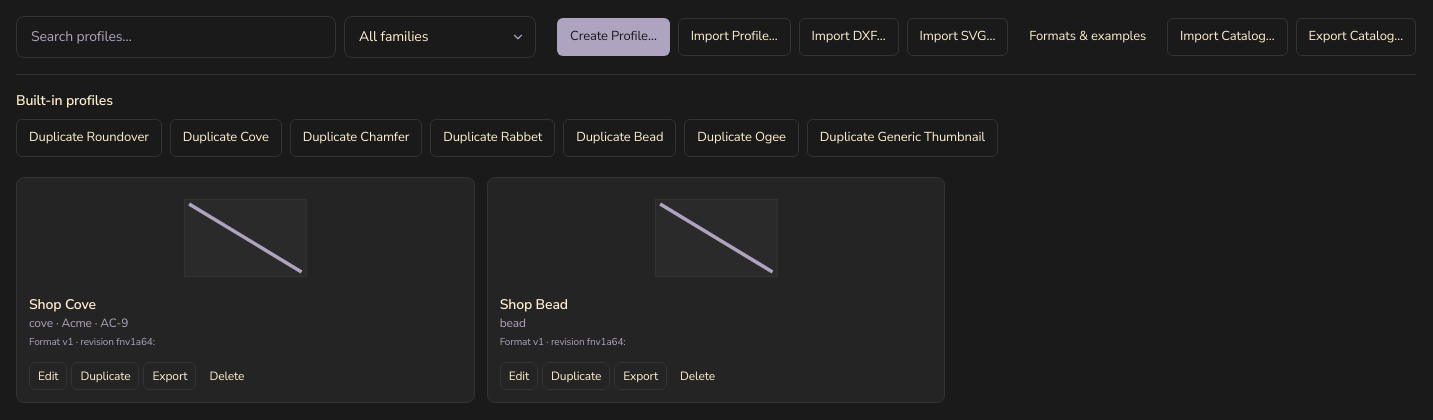
Scenario: RouterProfilesTab › filters by search text and by family
In the field named "Search router profiles": (176, 37) x1=16 y1=16 x2=336 y2=58, type "bead"
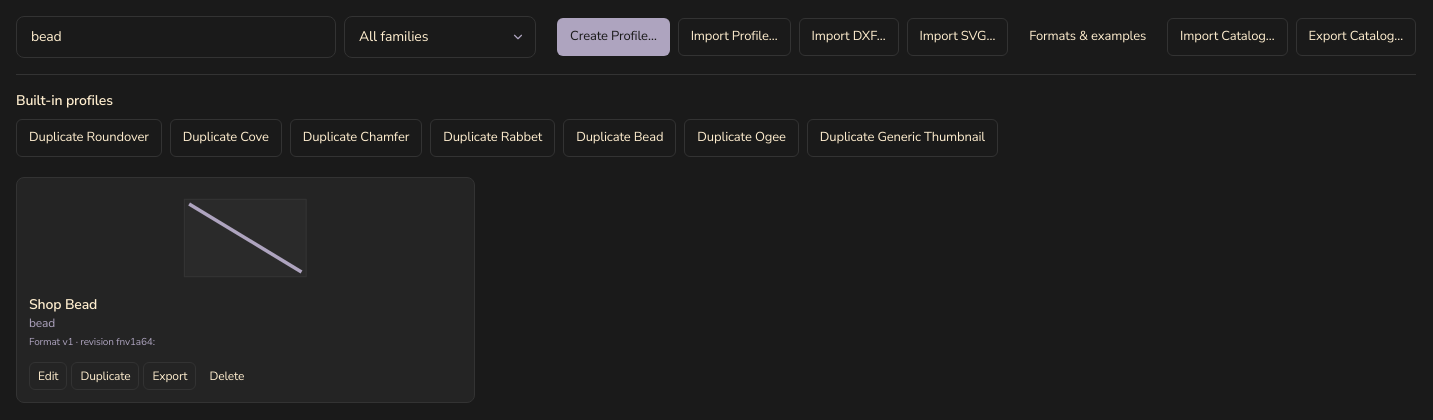
Expected: the heading "Shop Bead" is shown, x1=29 y1=294 x2=97 y2=314
Now the heading "Shop Cove" is gone
Clear the field named "Search router profiles": (176, 37) x1=16 y1=16 x2=336 y2=58
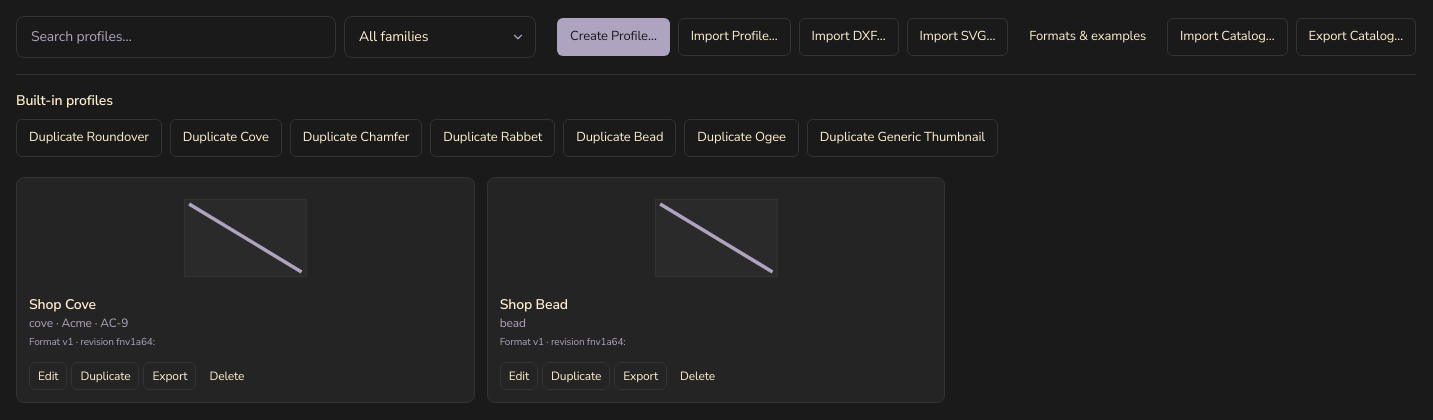
Select "cove" in the dropdown named "Filter router profiles by family": (440, 37) x1=344 y1=16 x2=536 y2=58
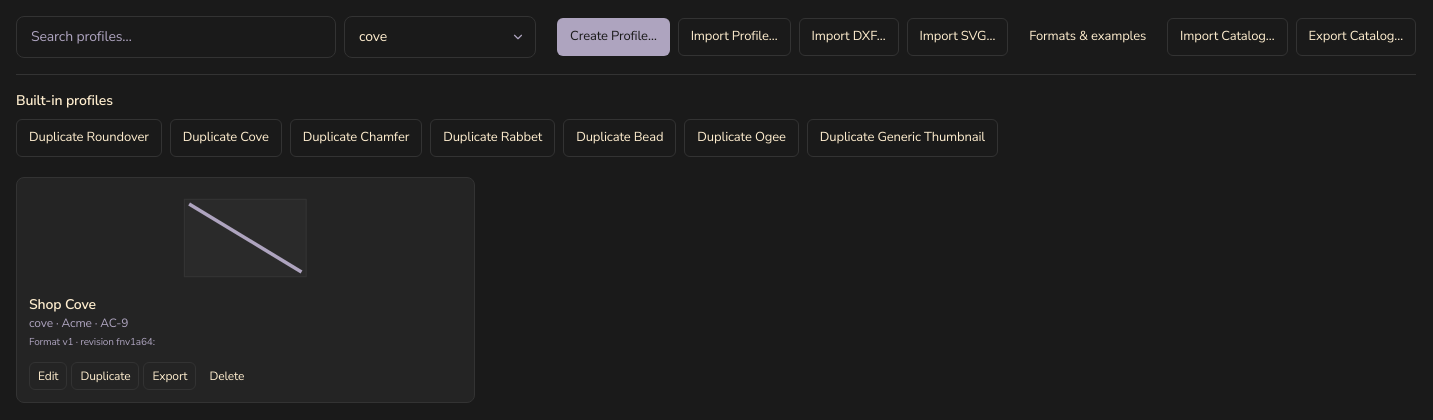
Now the heading "Shop Cove" is shown, box x1=29 y1=294 x2=96 y2=314
Now the heading "Shop Bead" is gone
